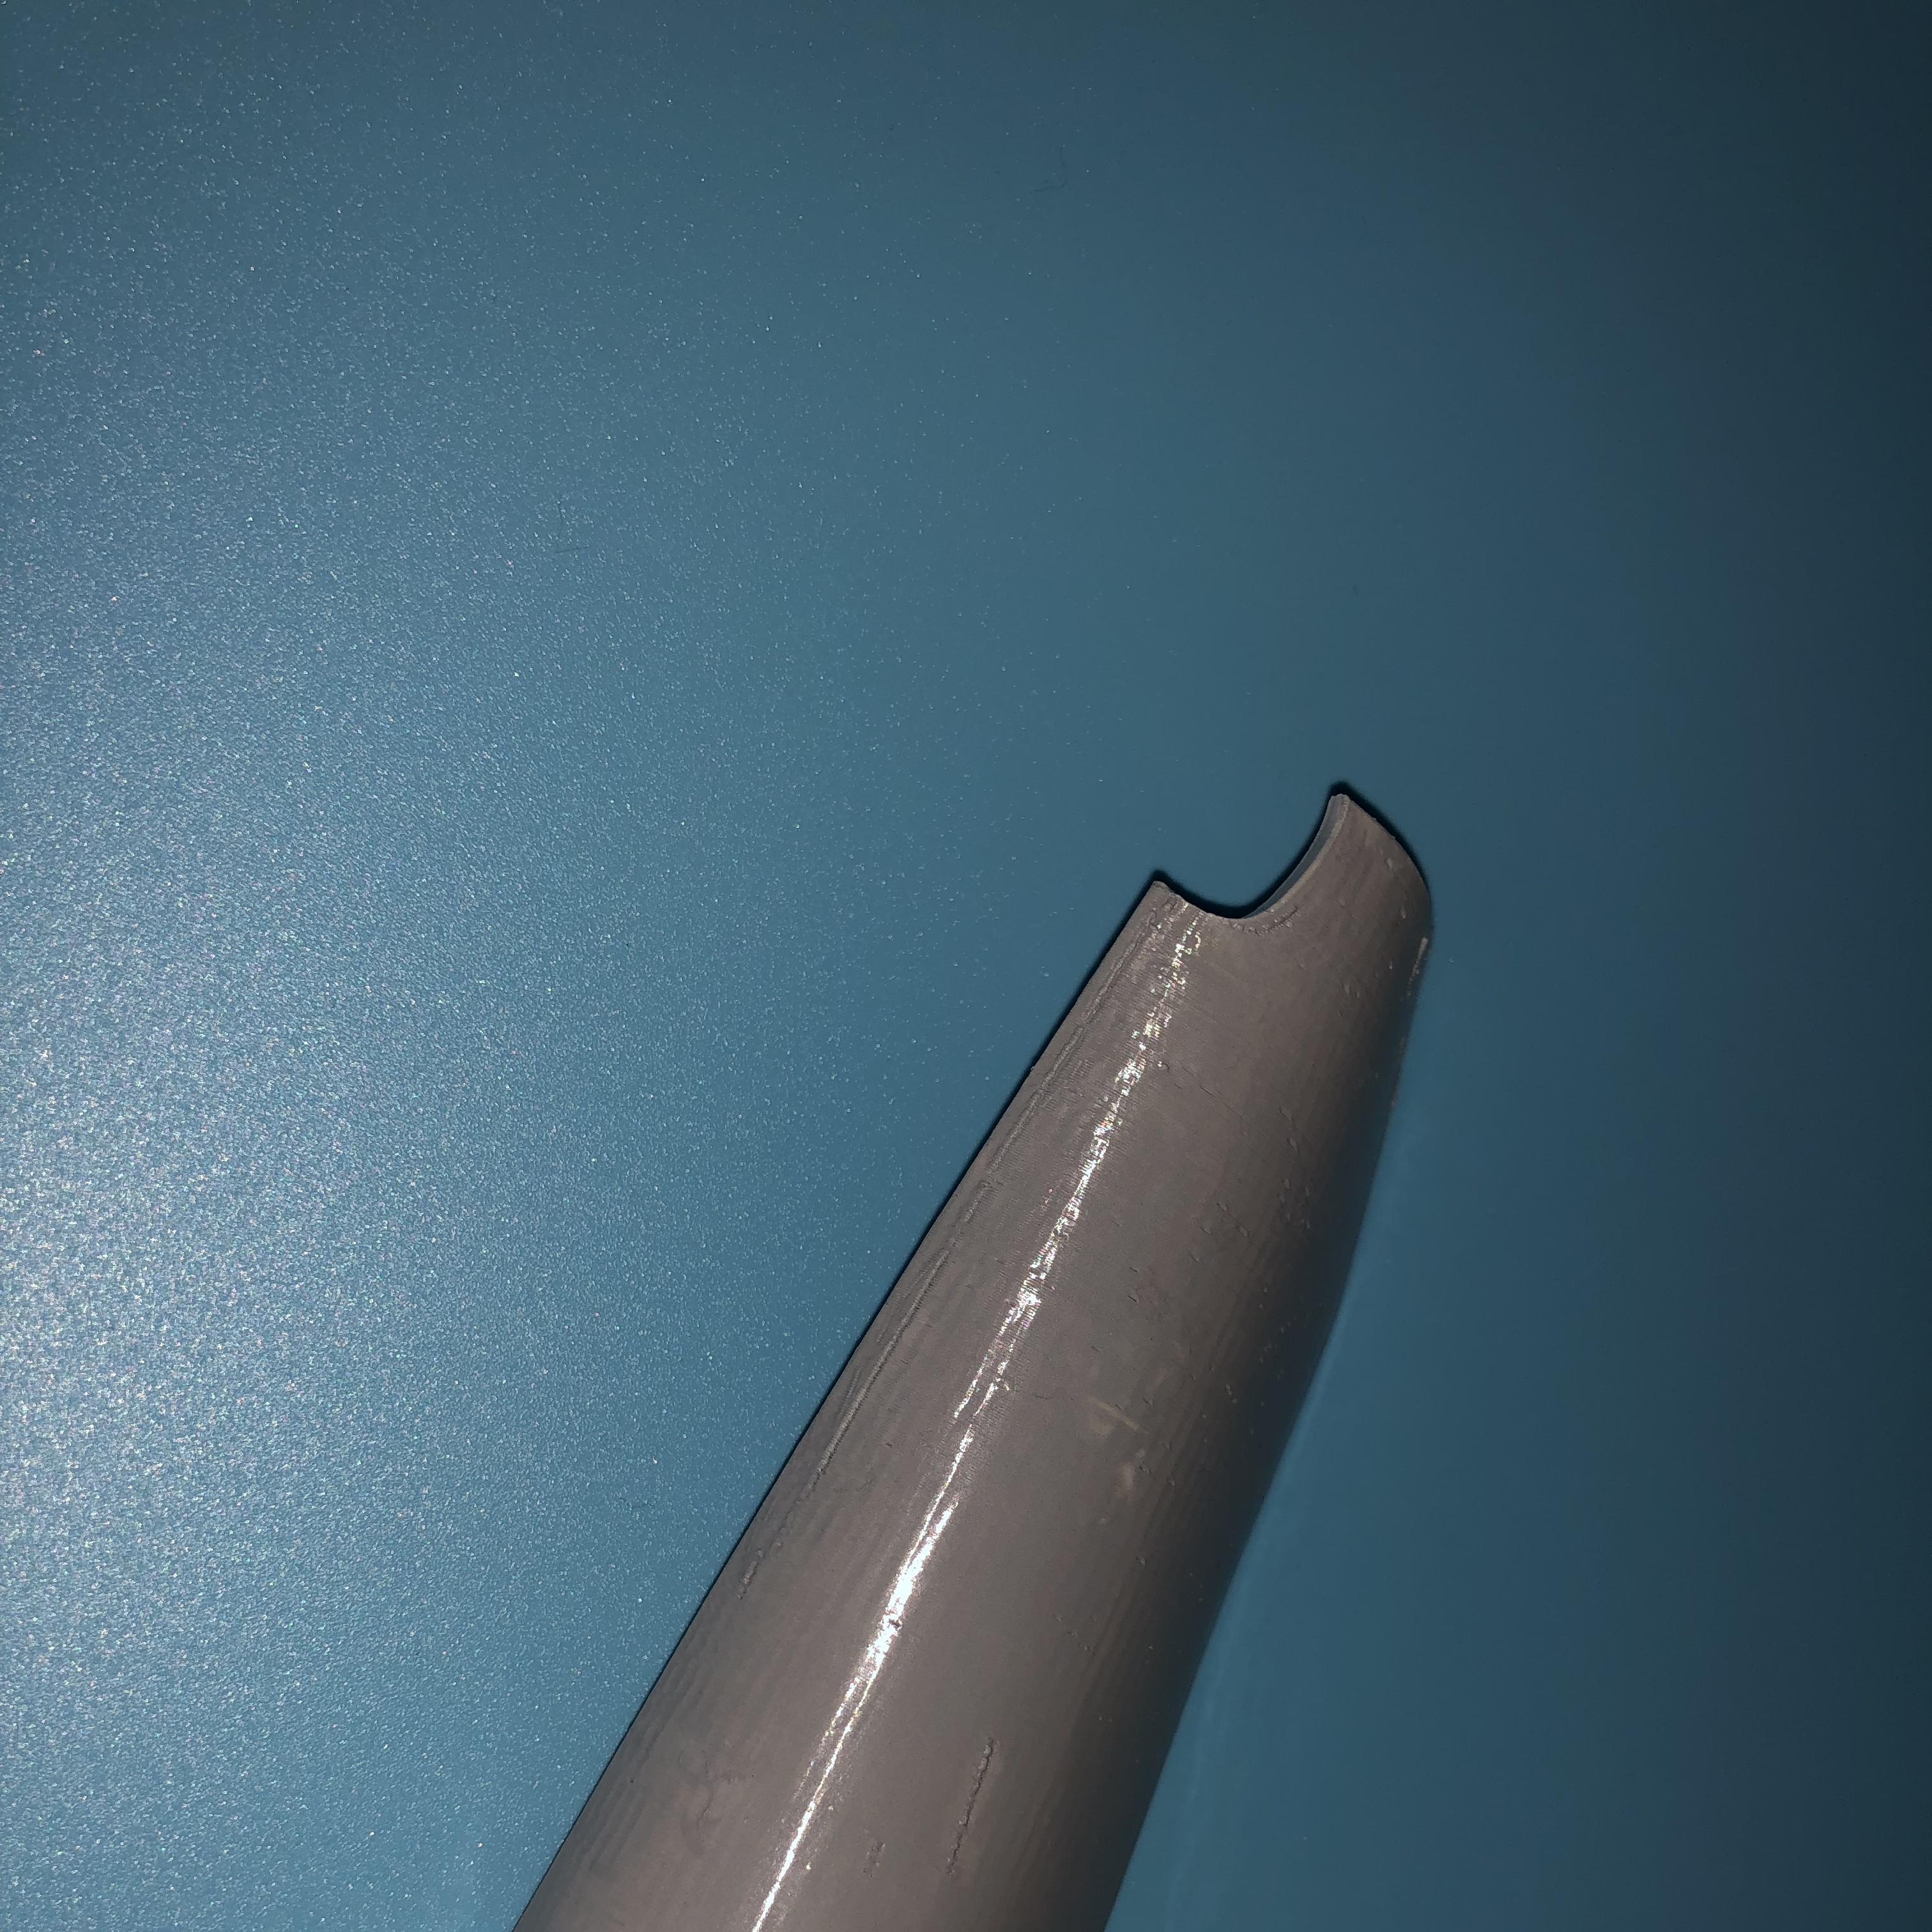fracture: (1180, 786, 1350, 918)
